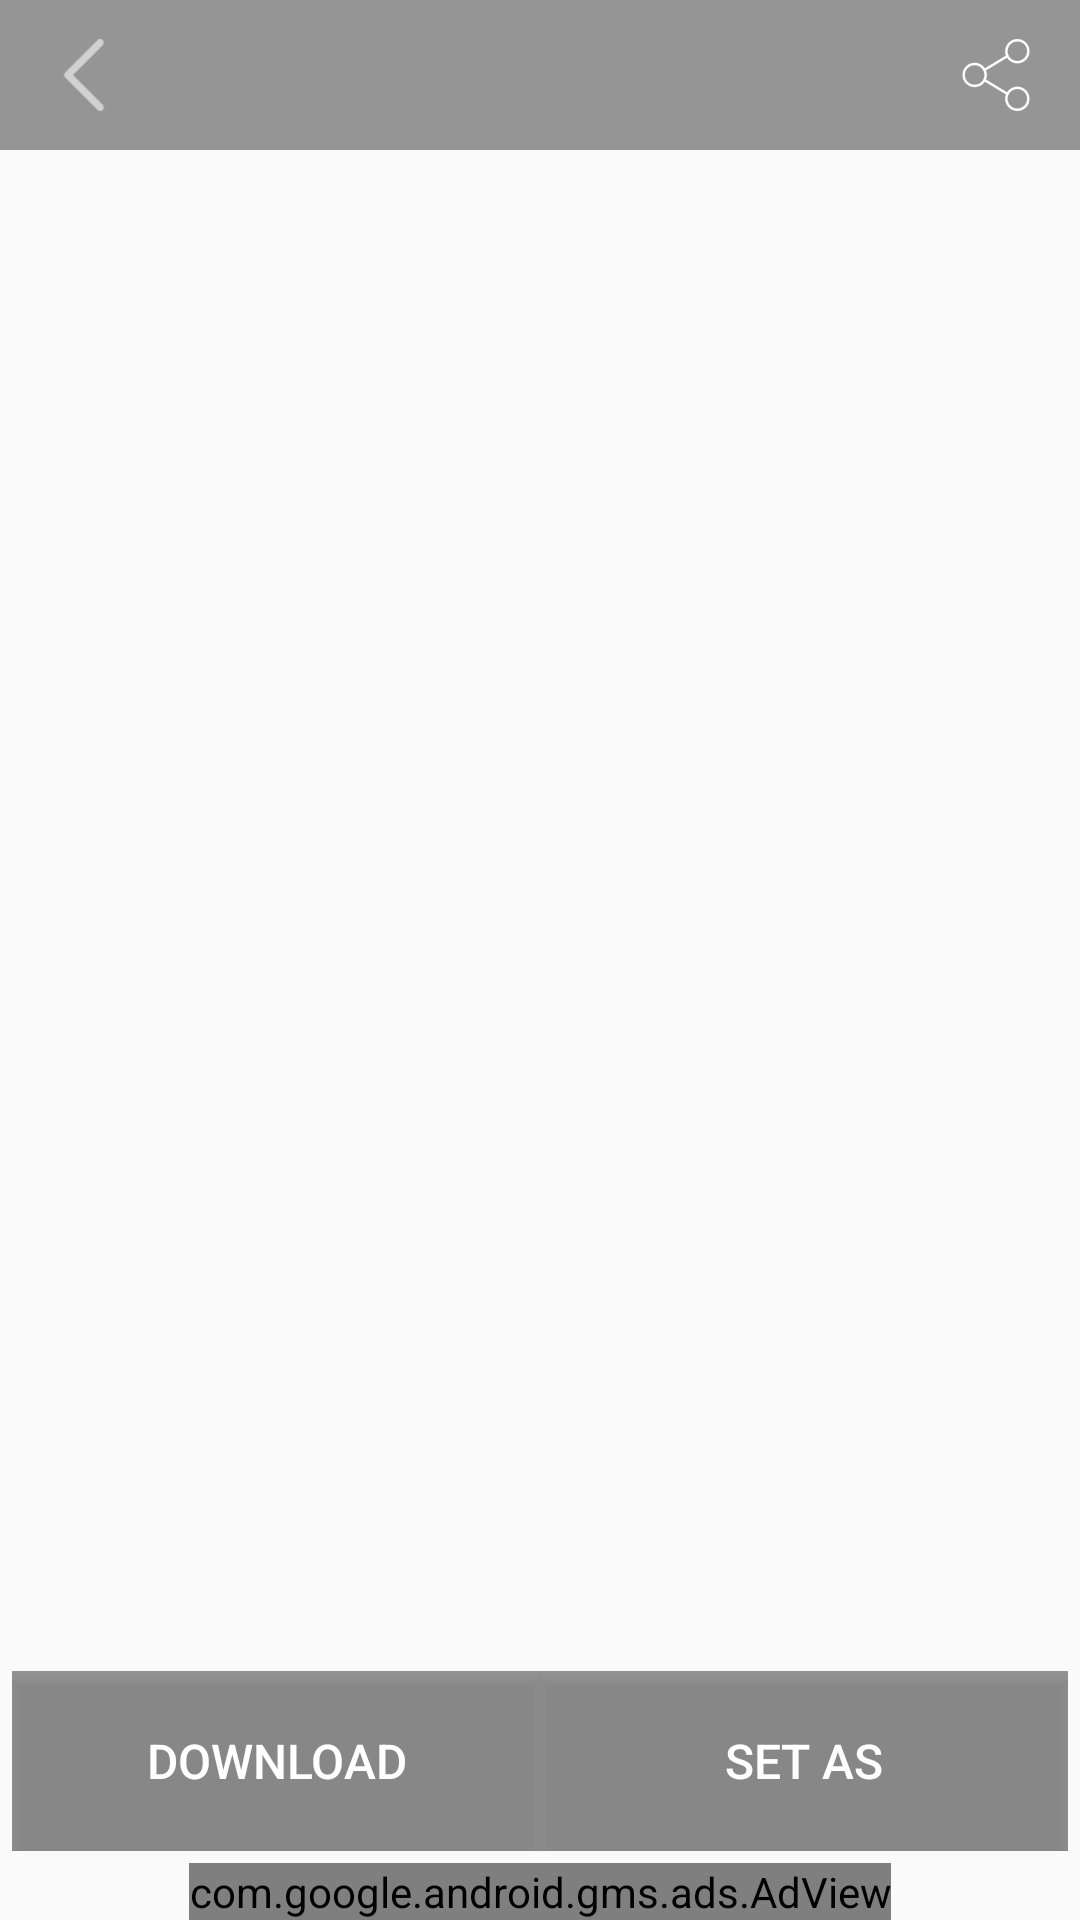

Named icons in this screenshot (1080w x 1920h) and their bounding boxes, (x1, y1, x2, y2):
back: (64, 39, 104, 111)
share: (962, 39, 1030, 111)
